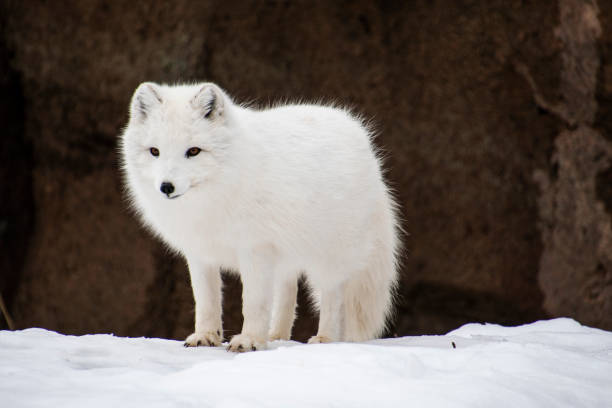arcticfox: (128, 94, 228, 222)
